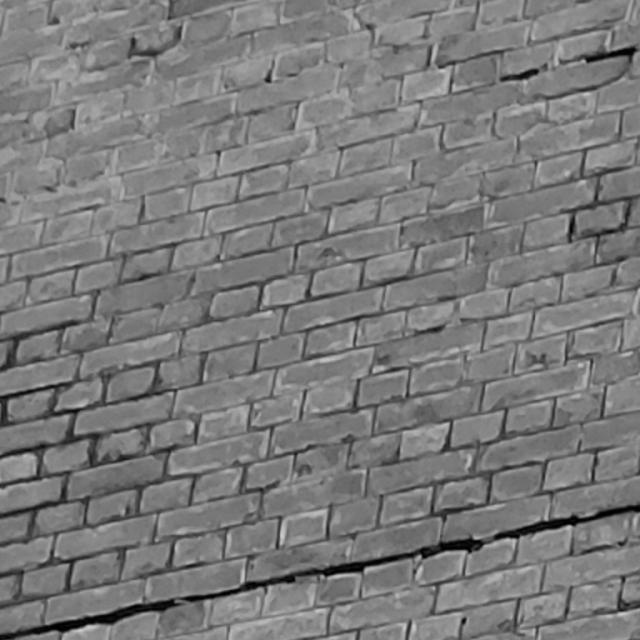crack: (1, 503, 638, 640), (582, 43, 636, 62), (497, 66, 541, 82)
